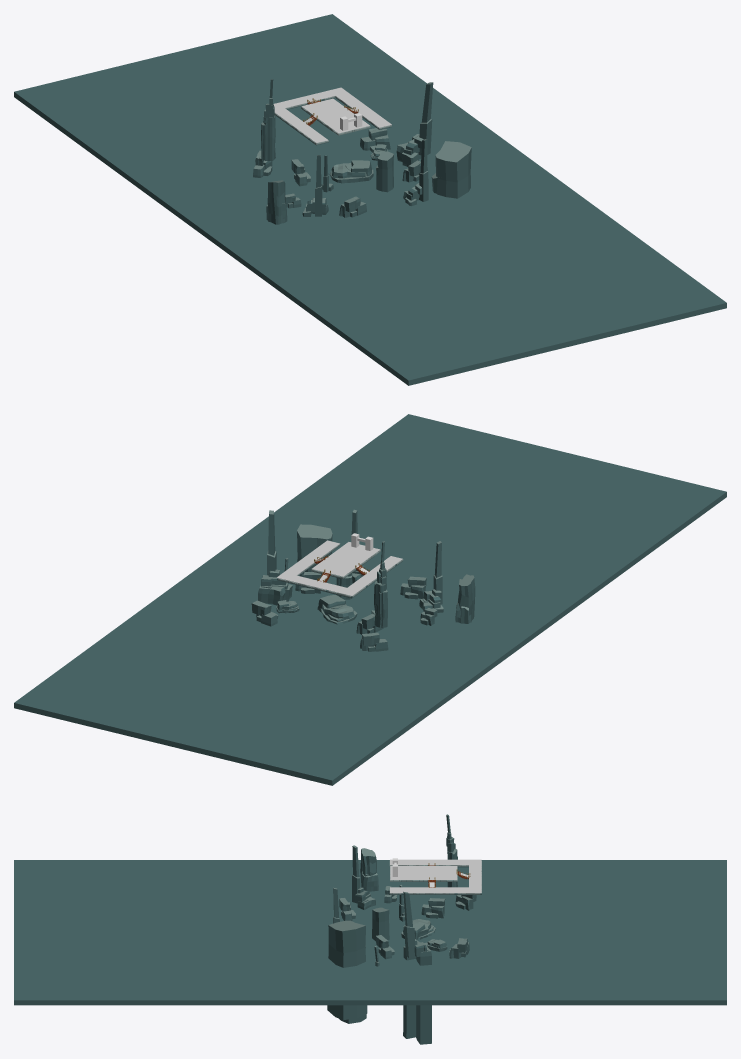
The model's file is map_v10.fbx.
The picture shows the model from 3 angles, top to bottom: view 1: azimuth 30°, elevation 25°; view 2: azimuth 150°, elevation 25°; view 3: azimuth 270°, elevation 25°; orthographic projection. The views are drawn at different scales.
Visible parts, largest first — view 1: Cube.009, hit_box_2, Cube.005, Cube.007, Cube.016, Cylinder.002, Cube.021, Cube.018; view 2: Cube.009, hit_box_2, Cube.005, Cube.016, Cube.007, Cube, Cylinder.002; view 3: Cube.009, hit_box_2, Cube.005, Cube.006, Cube.007, Cube, Cube.021, Cylinder.002, Cube.013, Cube.016.
Part boxes in pixels (bbox=[...]): Cube.009: bbox=[14, 14, 726, 385]; hit_box_2: bbox=[273, 87, 391, 143]; Cube.005: bbox=[431, 141, 471, 198]; Cube.007: bbox=[403, 82, 433, 155]; Cube.016: bbox=[329, 160, 373, 183]; Cylinder.002: bbox=[267, 180, 285, 224]; Cube.021: bbox=[376, 151, 393, 192]; Cube.018: bbox=[407, 139, 428, 201]; Cube.009: bbox=[14, 414, 726, 785]; hit_box_2: bbox=[276, 540, 402, 595]; Cube.005: bbox=[297, 524, 332, 576]; Cube.016: bbox=[317, 595, 357, 624]; Cube.007: bbox=[261, 510, 288, 589]; Cube: bbox=[423, 541, 442, 608]; Cylinder.002: bbox=[458, 574, 475, 622]; Cube.009: bbox=[14, 860, 726, 1005]; hit_box_2: bbox=[390, 859, 481, 893]; Cube.005: bbox=[327, 920, 367, 1023]; Cube.006: bbox=[403, 942, 431, 1044]; Cube.007: bbox=[403, 891, 426, 958]; Cube: bbox=[352, 845, 370, 903]; Cube.021: bbox=[372, 907, 389, 941]; Cylinder.002: bbox=[360, 848, 376, 887]; Cube.013: bbox=[421, 898, 445, 918]; Cube.016: bbox=[401, 919, 435, 940].
Bounding box in the file's own units: 12395 × 6988 × 26600.
